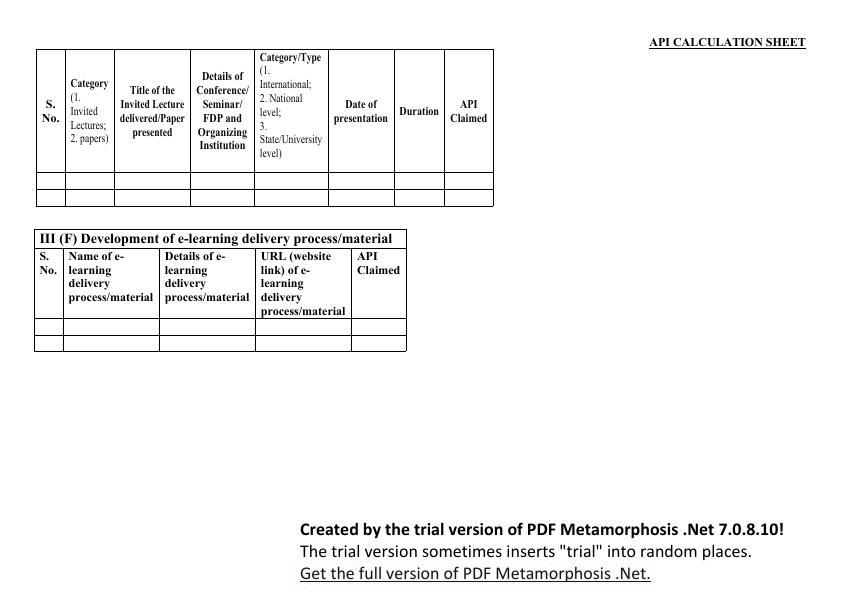table: (33, 46, 500, 211), (29, 224, 413, 358)
text: (292, 511, 791, 583), (647, 31, 812, 55)
